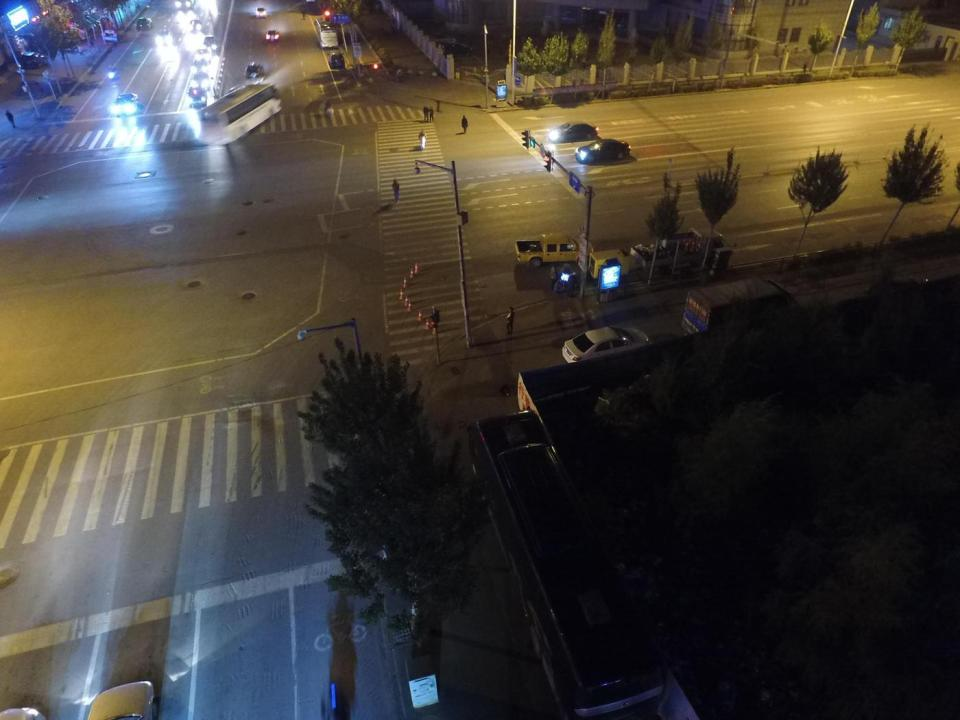bus: (463, 408, 668, 720), (198, 83, 283, 148), (314, 19, 338, 52)
car: (560, 324, 650, 362), (88, 680, 154, 720), (862, 273, 928, 308), (574, 138, 633, 164), (548, 119, 599, 141), (433, 40, 477, 57), (116, 90, 138, 118), (15, 50, 45, 70), (51, 27, 88, 43), (195, 46, 216, 66), (244, 62, 267, 80), (73, 16, 99, 31), (188, 85, 204, 106), (191, 70, 209, 88), (156, 27, 170, 48), (136, 16, 153, 33), (202, 35, 218, 53), (328, 53, 344, 69), (191, 59, 212, 71), (264, 28, 280, 43), (256, 8, 267, 19)
truck: (682, 276, 804, 338), (630, 227, 737, 276), (513, 231, 592, 263)
